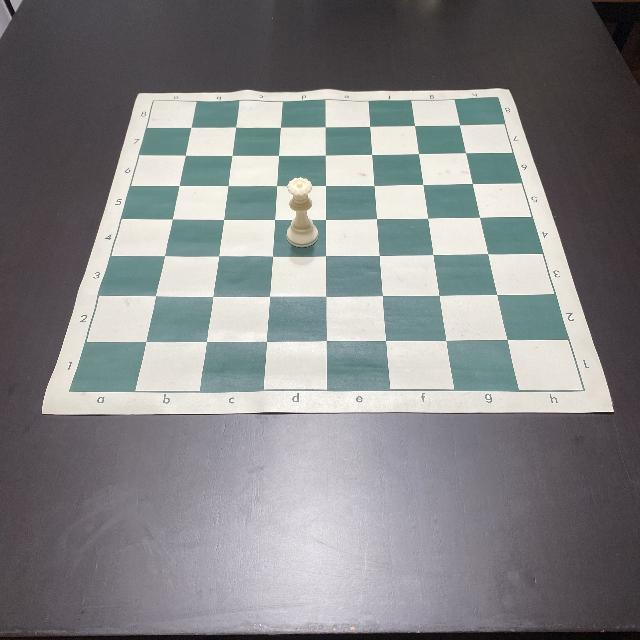board: (42, 88, 614, 414)
white-queen: (285, 176, 319, 248)
